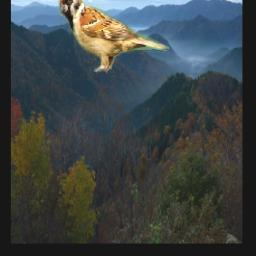Sparrow: (55, 0, 170, 75)
